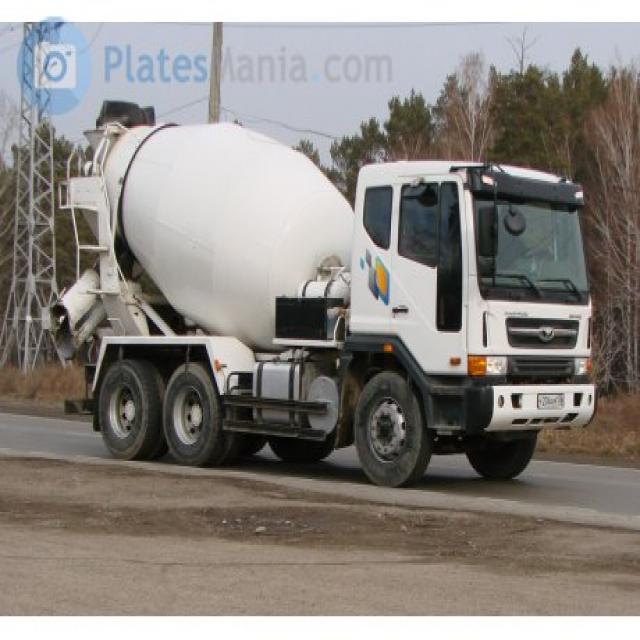Mixer Truck: (49, 100, 598, 488)
